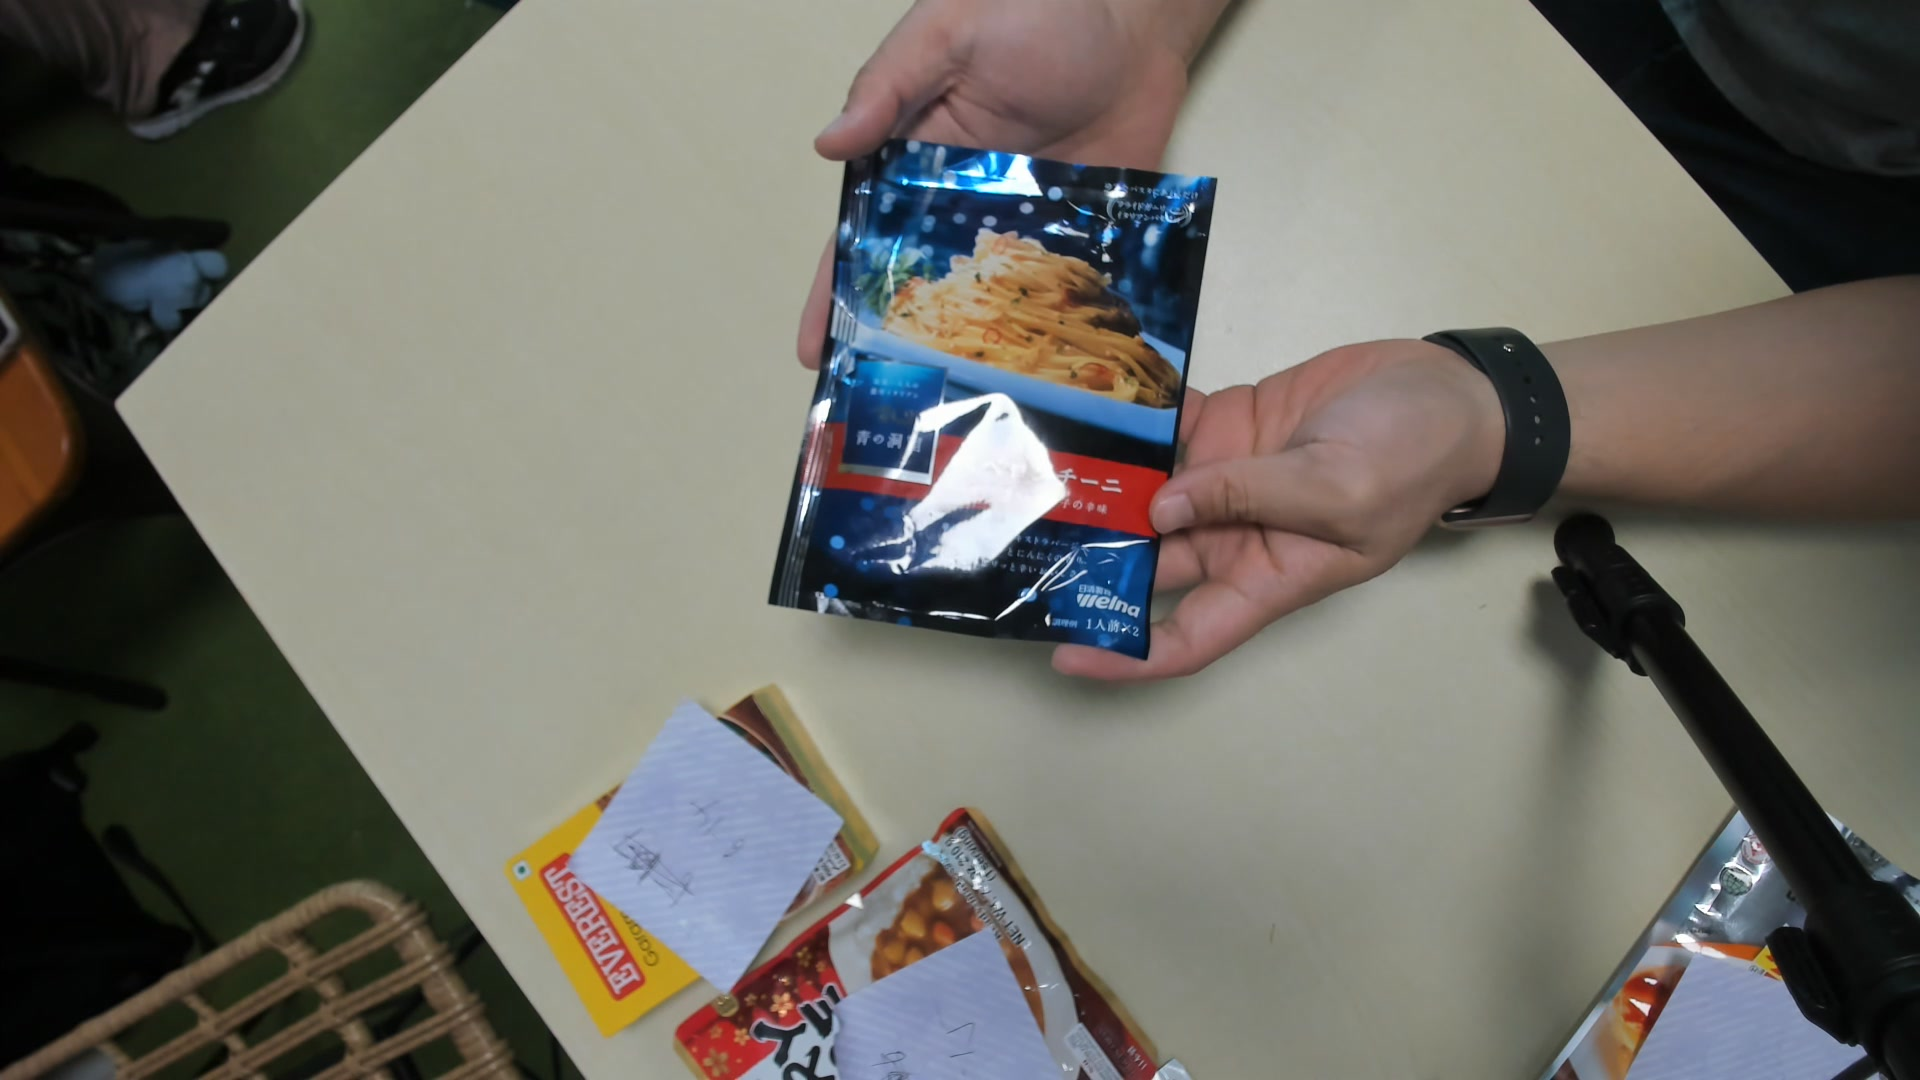CurryPastePowderSauce_0-99g_NonHalal_NonHealthy: (778, 138, 1216, 665)
